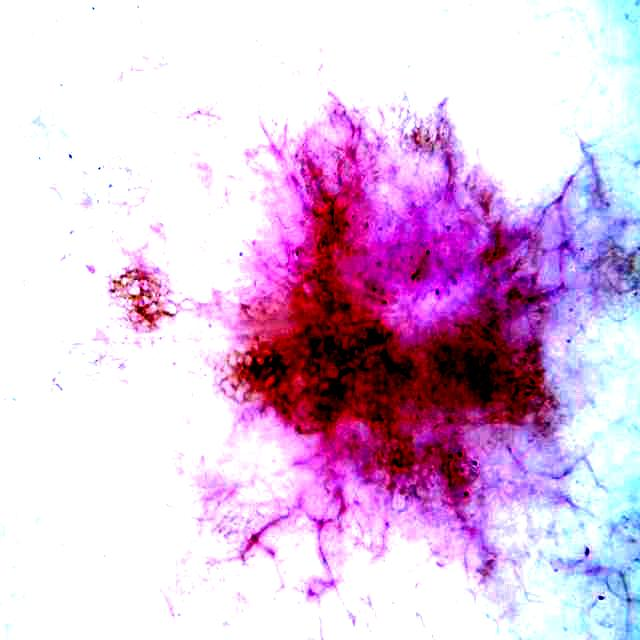DF: (228, 54, 598, 545)
